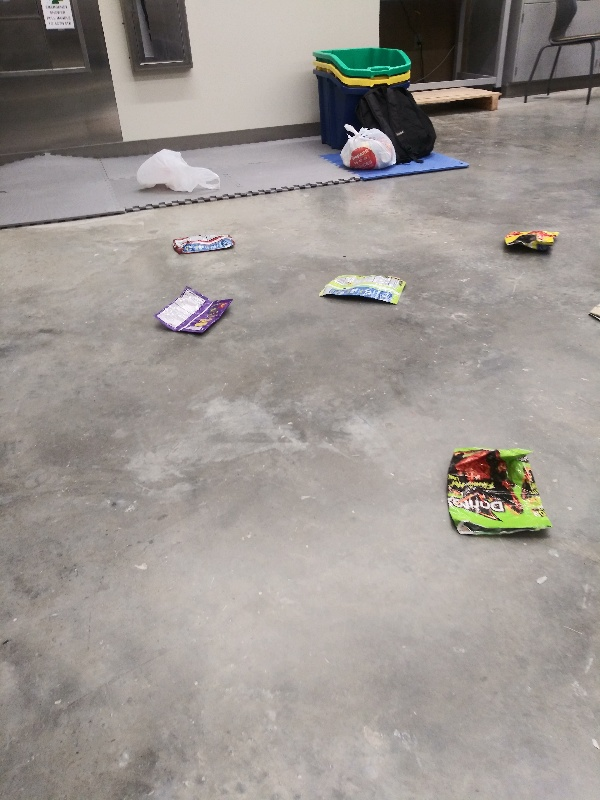bag: (443, 444, 557, 539), (153, 284, 239, 339), (316, 271, 407, 307), (170, 230, 241, 259), (500, 225, 562, 253)
